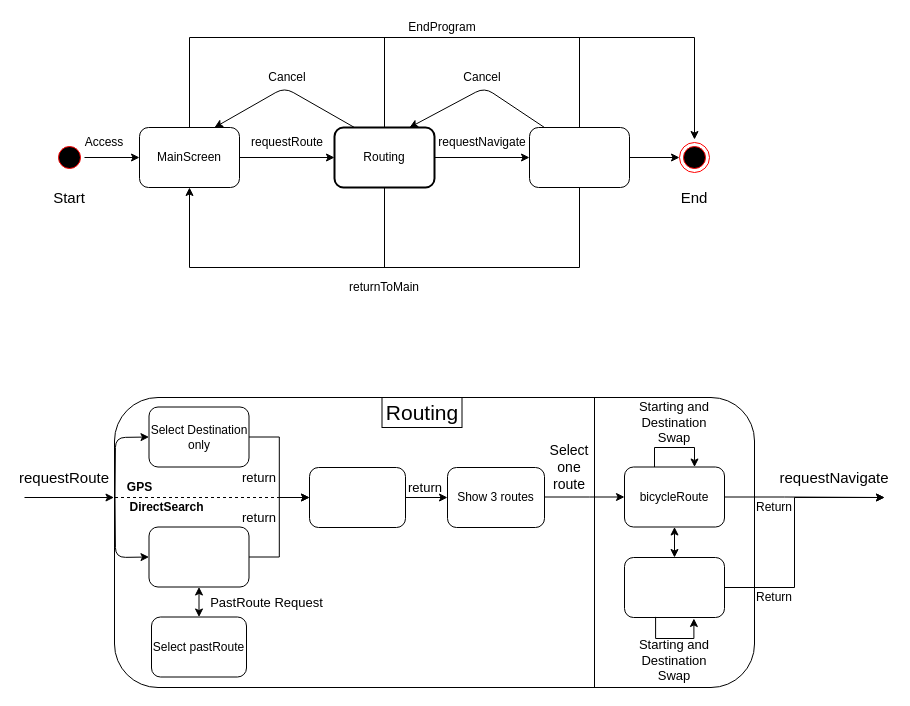
Some shapes in this 910 by 706 pixel diagram are drawn without their labels. Here are the shapes that lost their labels. From the top down, the centre of each, then its label:
[579,157]: Navigate
[357,497]: Find route from Starting point to Destination point
[198,556]: Select both Starting Point and Destination Point
[674,587]: busRoute
